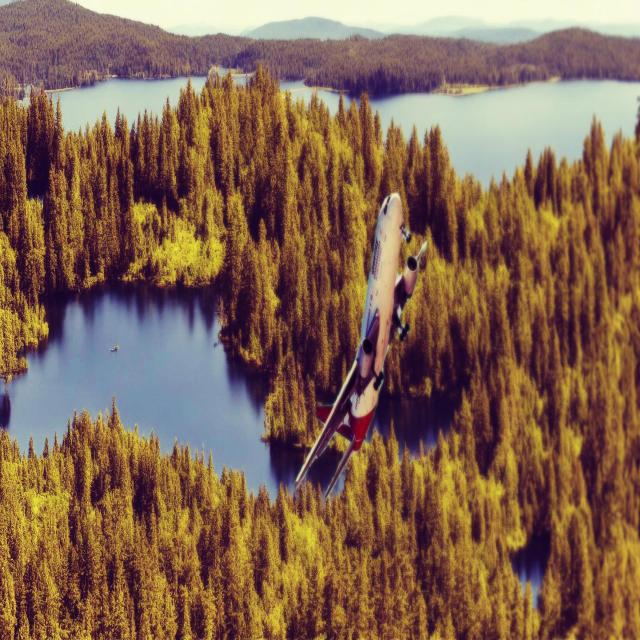airplane: (293, 191, 428, 504)
